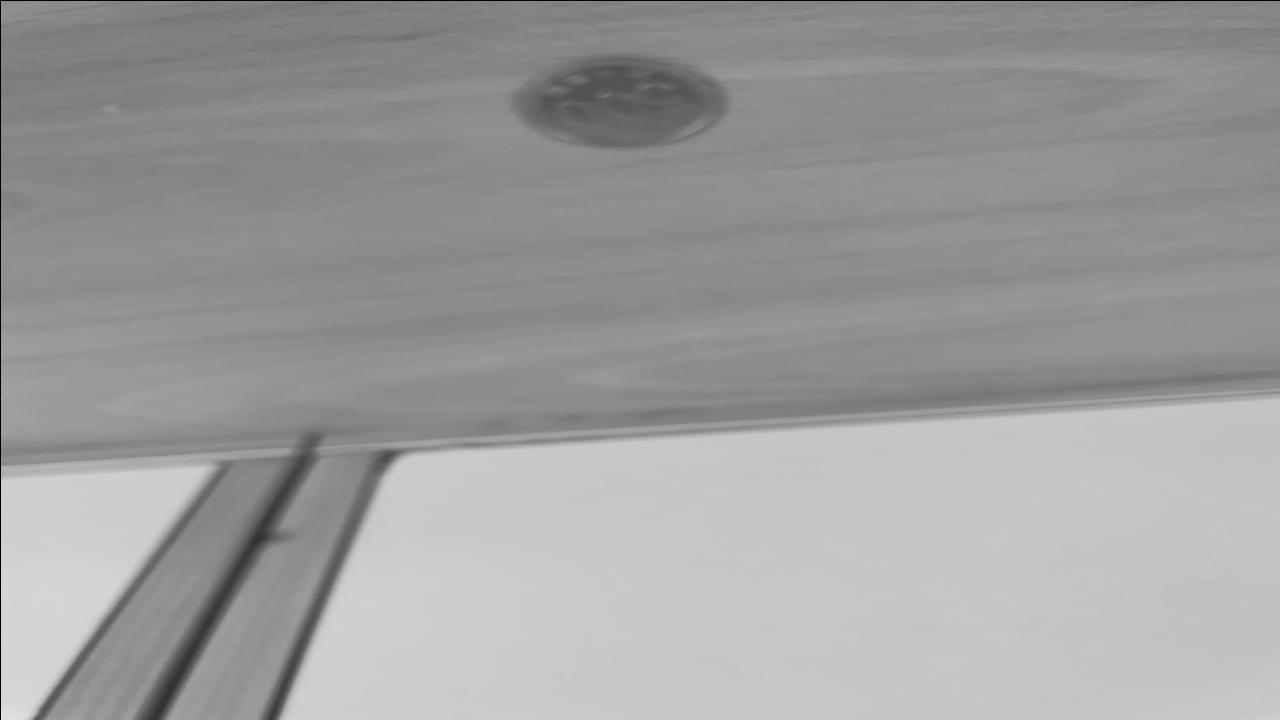coin: (510, 56, 728, 150)
